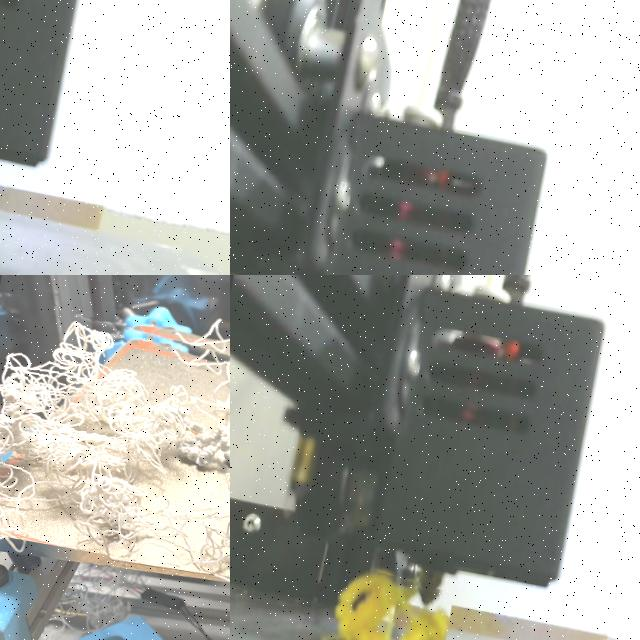spaghetti: (0, 321, 230, 576), (335, 572, 448, 640), (51, 566, 143, 640)
